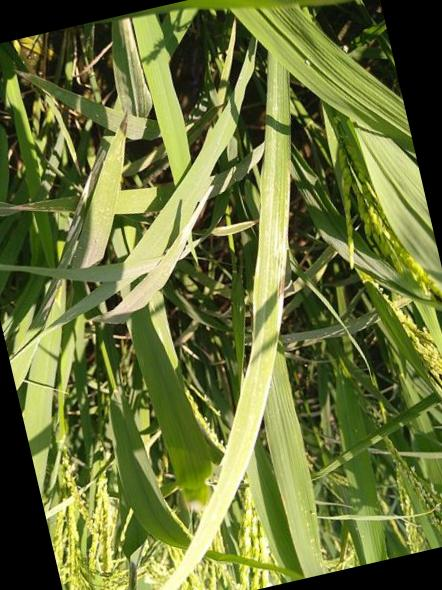Leaf Streak: (65, 150, 106, 242), (272, 163, 291, 339), (6, 194, 77, 212), (43, 278, 60, 326)
